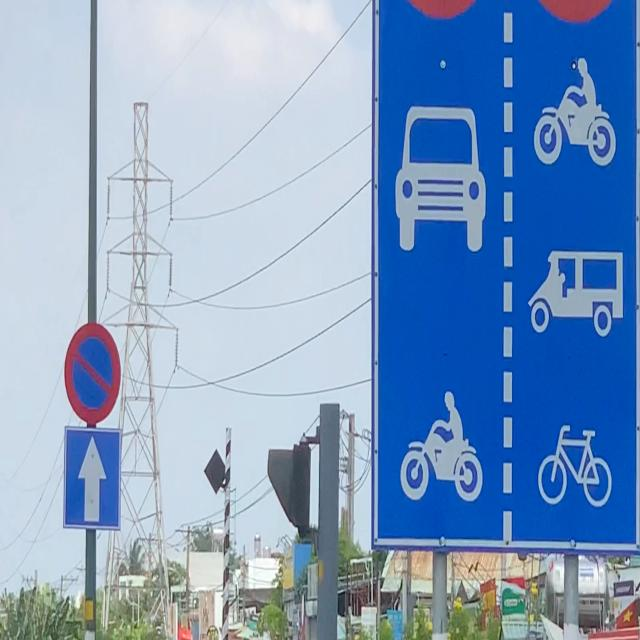Cam do: (64, 322, 121, 426)
Chi dan: (62, 424, 124, 532)
